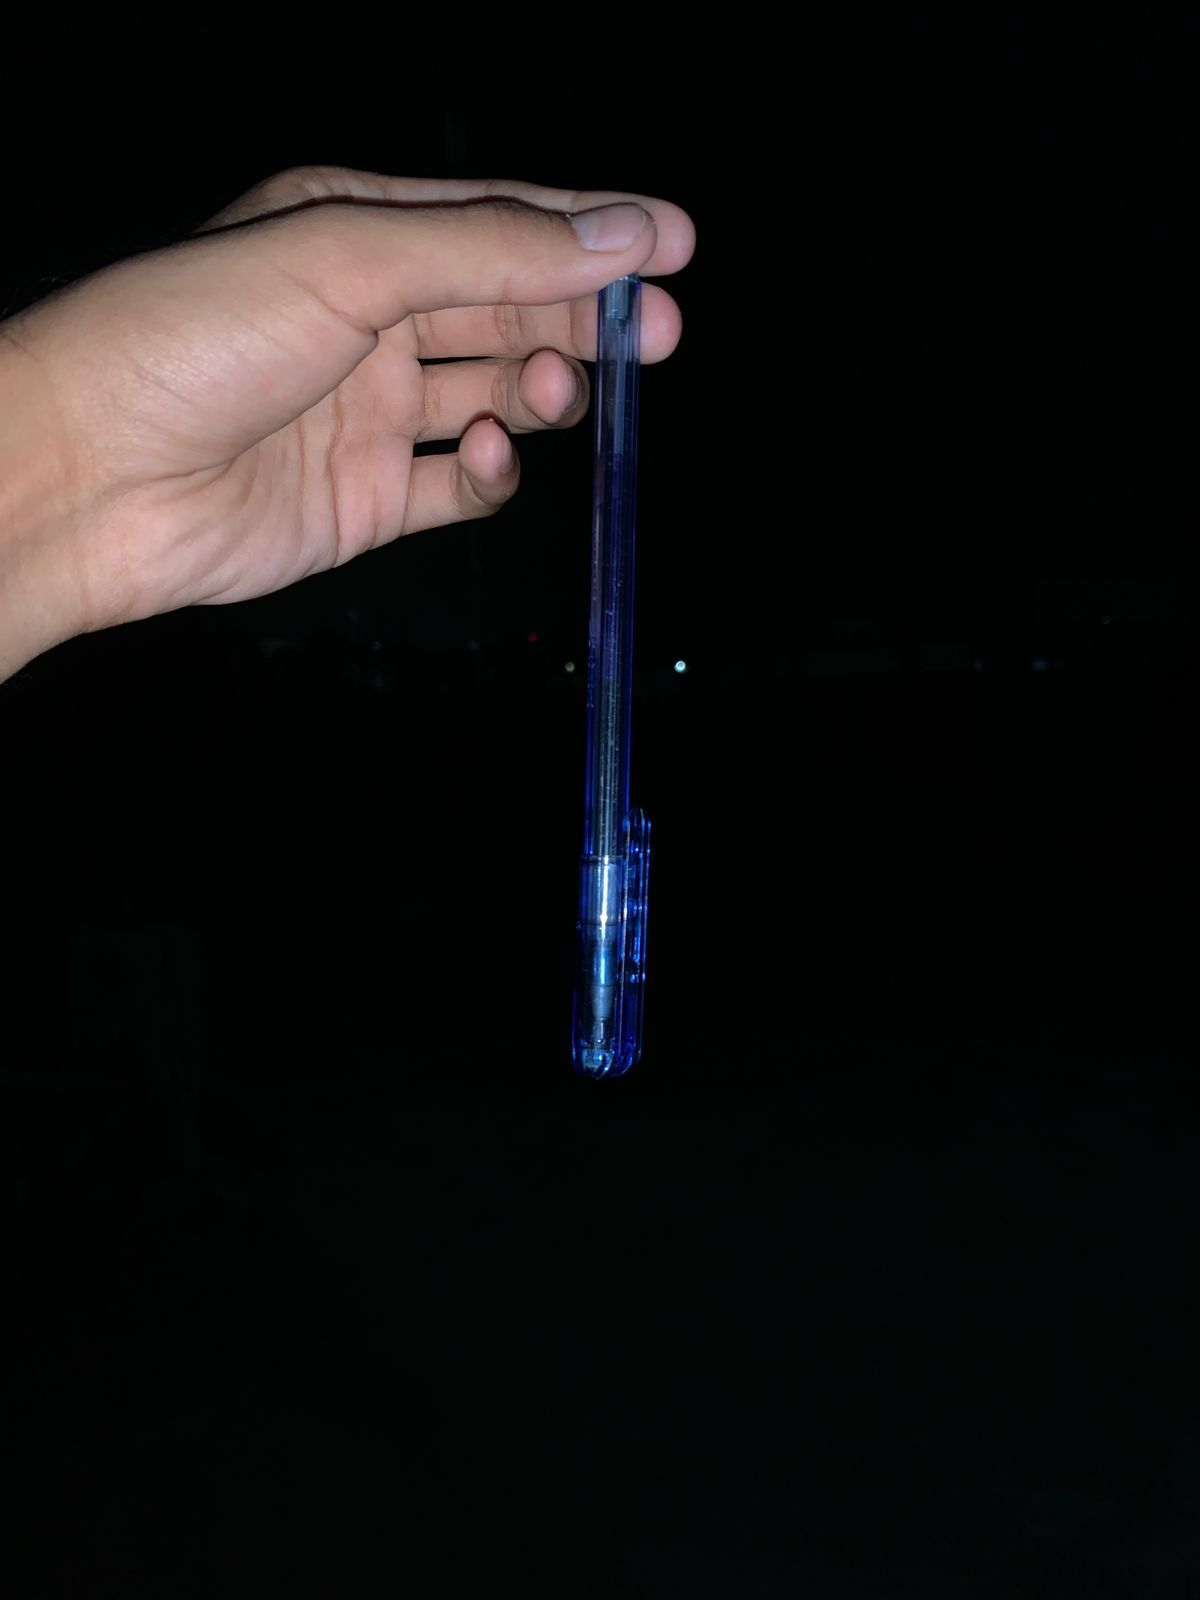pen: (472, 169, 763, 1143)
